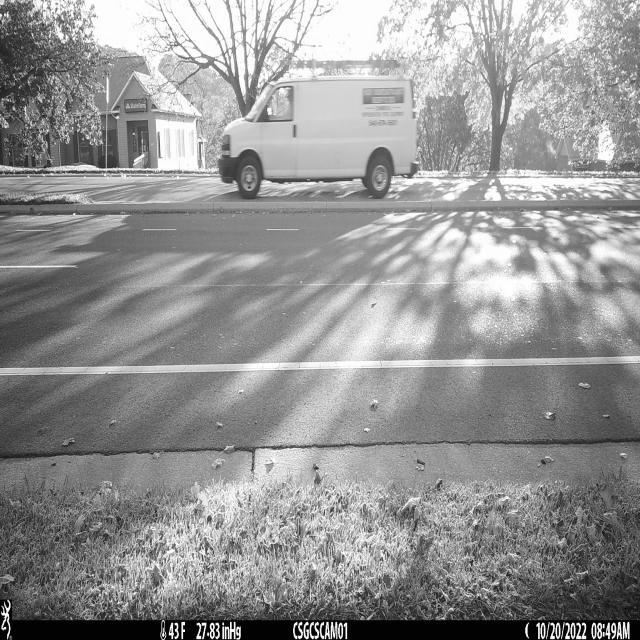Van: (218, 76, 416, 198)
